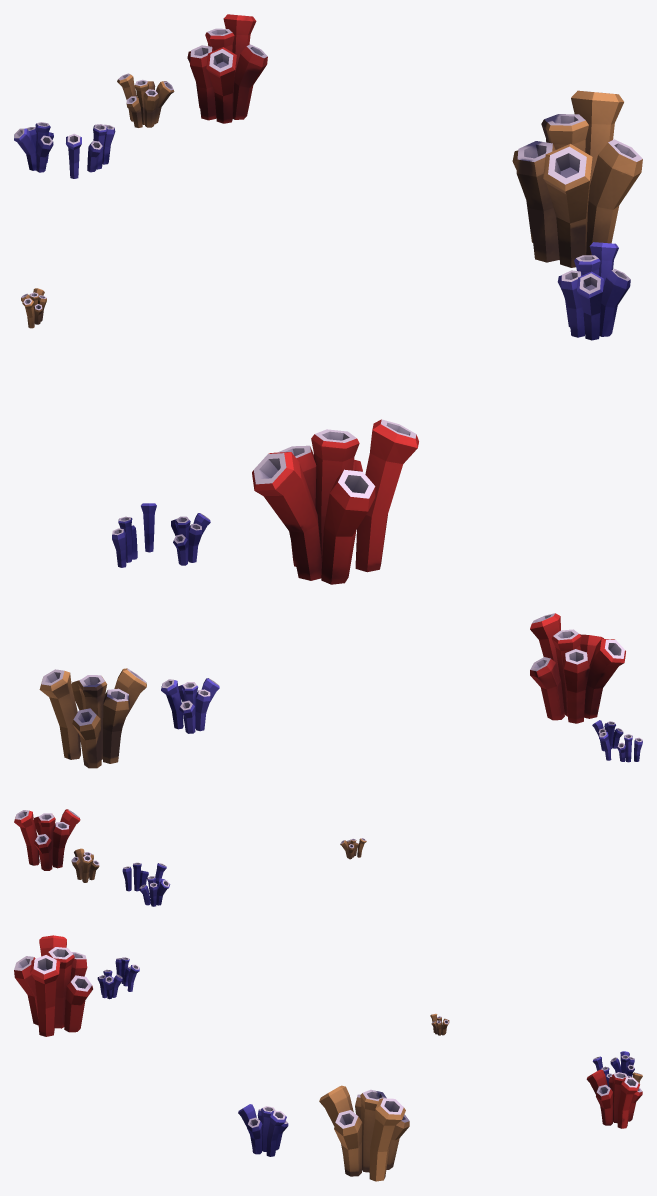
Rendered from Plant_01.FBX.
The picture shows the model from 3 angles, top to bottom: view 1: azimuth 30°, elevation 25°; view 2: azimuth 150°, elevation 25°; view 3: azimuth 270°, elevation 25°; orthographic projection. The views are drawn at different scales.
Parts seen in each view (by area): view 1: Plant_01; view 2: Plant_01; view 3: Plant_01.
Part boxes in pixels (left/top/right/bottom): Plant_01: left=14, top=14, right=642, bottom=584; Plant_01: left=14, top=613, right=642, bottom=906; Plant_01: left=14, top=935, right=642, bottom=1181.
Size of the model in its own units: 21.24 by 3.87 by 26.62.
